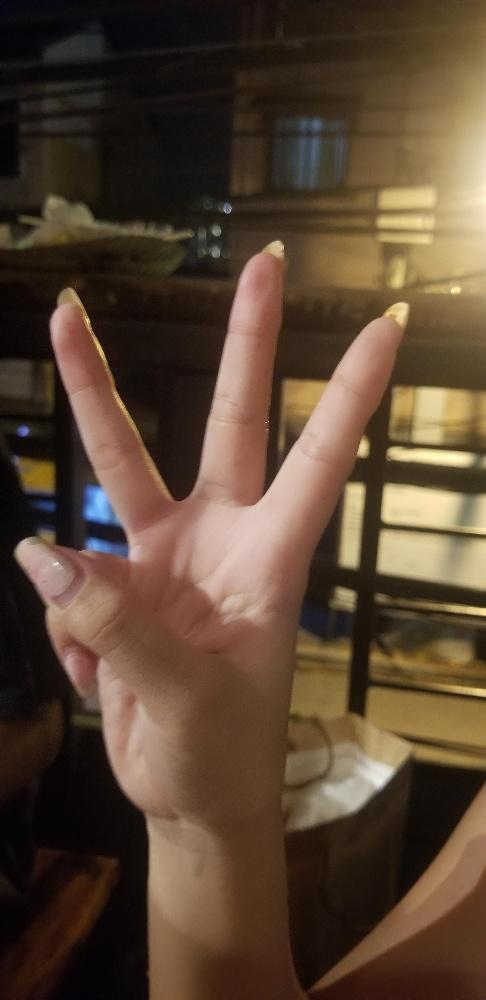w: (10, 234, 410, 818)
